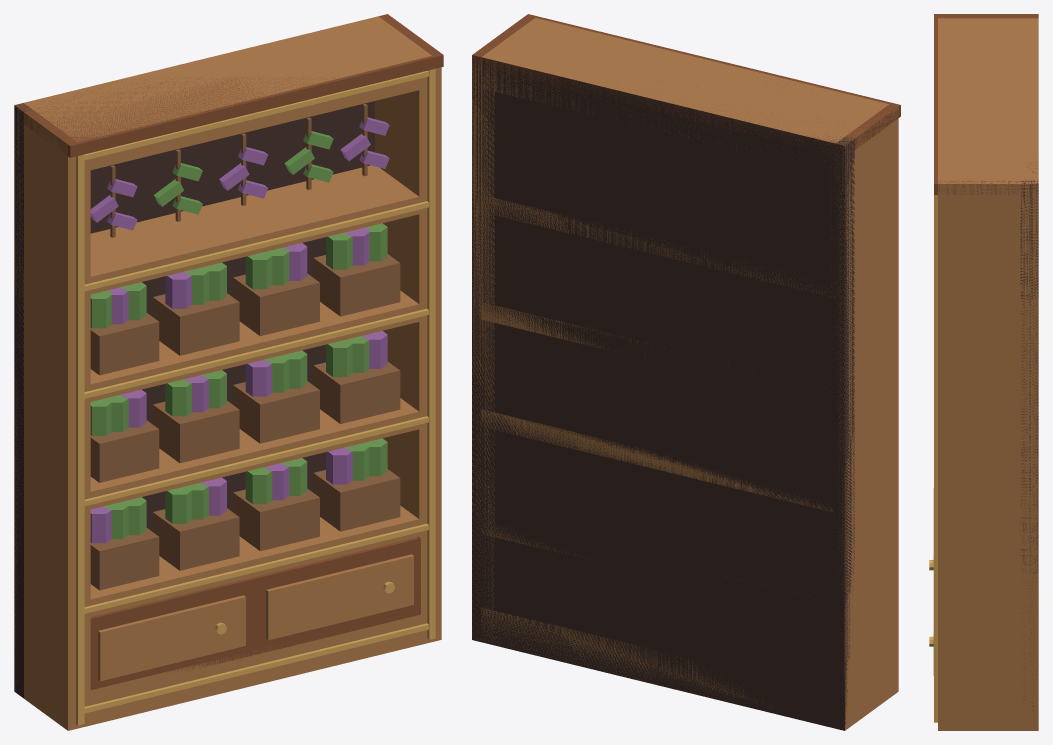
Rendered from herb-cabinet.glb.
3 views of the same model, side by side, from view 1: azimuth 30°, elevation 25°; view 2: azimuth 150°, elevation 25°; view 3: azimuth 270°, elevation 25° (orthographic). The views are drawn at different scales.
Parts seen in each view (by area): view 1: Side post, Back, Shelf.005, Side post.001, Shelf.004, Crown, Lower doors, Shelf, Door panel, Door panel.001, Shelf.002, Shelf.001 (+49 smaller); view 2: Back, Side post, Shelf.005, Side post.001, Crown, Shelf.002, Shelf, Shelf.004, Shelf.003; view 3: Side post.001, Shelf.005, Back, Post edging.001, Crown.
Part boxes in pixels (bbox=[...]): Side post: bbox=[14, 108, 90, 730]; Back: bbox=[14, 87, 374, 698]; Shelf.005: bbox=[24, 16, 431, 171]; Side post.001: bbox=[375, 67, 441, 641]; Shelf.004: bbox=[84, 165, 427, 294]; Crown: bbox=[14, 14, 443, 157]; Lower doors: bbox=[90, 537, 420, 689]; Shelf: bbox=[77, 609, 432, 728]; Door panel: bbox=[98, 595, 245, 681]; Door panel.001: bbox=[266, 554, 413, 640]; Shelf.002: bbox=[84, 398, 427, 510]; Shelf.001: bbox=[84, 505, 427, 618]; Back: bbox=[472, 55, 854, 730]; Side post: bbox=[831, 107, 898, 730]; Shelf.005: bbox=[481, 18, 888, 165]; Side post.001: bbox=[472, 48, 494, 644]; Crown: bbox=[472, 14, 900, 155]; Shelf.002: bbox=[481, 409, 833, 512]; Shelf: bbox=[481, 607, 789, 712]; Shelf.004: bbox=[482, 195, 834, 297]; Shelf.003: bbox=[481, 302, 833, 392]; Side post.001: bbox=[938, 174, 1038, 730]; Shelf.005: bbox=[938, 18, 1038, 179]; Back: bbox=[1020, 165, 1038, 710]; Post edging.001: bbox=[934, 195, 937, 722]; Crown: bbox=[934, 14, 1038, 194].
Size of the model in its own units: 2 by 3 by 0.542.
